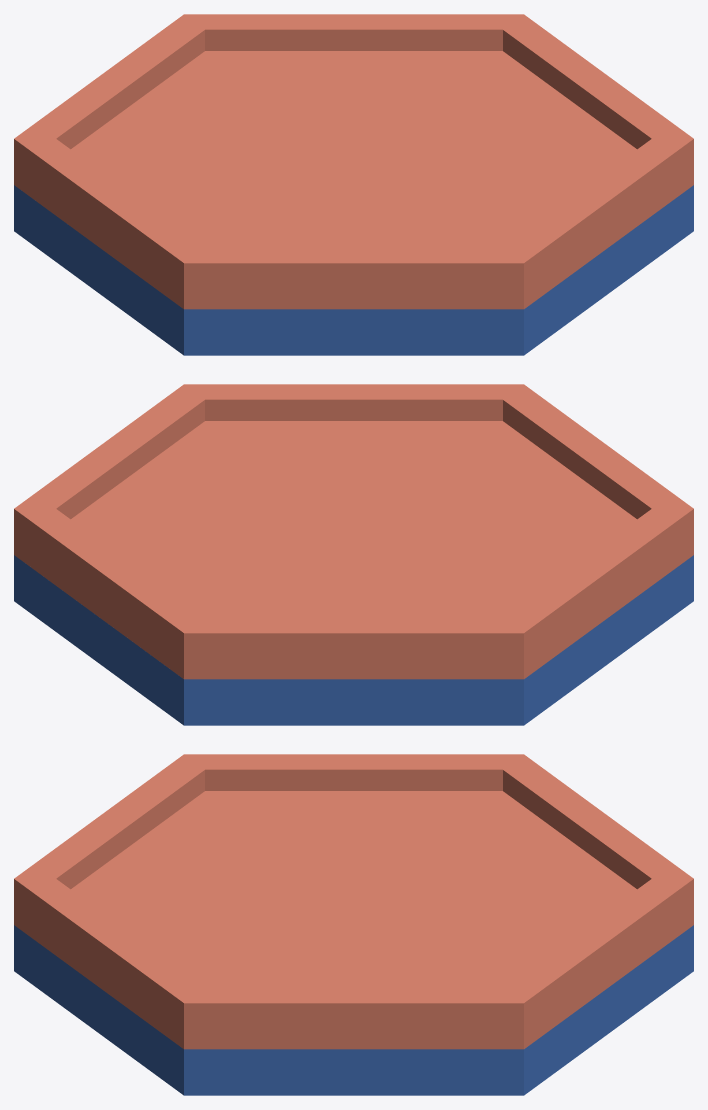
File: hexagon.fbx
The picture shows the model from 3 angles, top to bottom: view 1: azimuth 30°, elevation 25°; view 2: azimuth 150°, elevation 25°; view 3: azimuth 270°, elevation 25°; orthographic projection.
Visible parts, largest first — view 1: Cylinder, Cylinder.001; view 2: Cylinder, Cylinder.001; view 3: Cylinder, Cylinder.001.
Part boxes in pixels (bbox=[...]): Cylinder: bbox=[14, 14, 693, 309]; Cylinder.001: bbox=[14, 185, 693, 355]; Cylinder: bbox=[14, 384, 693, 679]; Cylinder.001: bbox=[14, 555, 693, 725]; Cylinder: bbox=[14, 754, 693, 1049]; Cylinder.001: bbox=[14, 925, 693, 1095].
Bounding box in the file's own units: 173 × 30.01 × 200.
